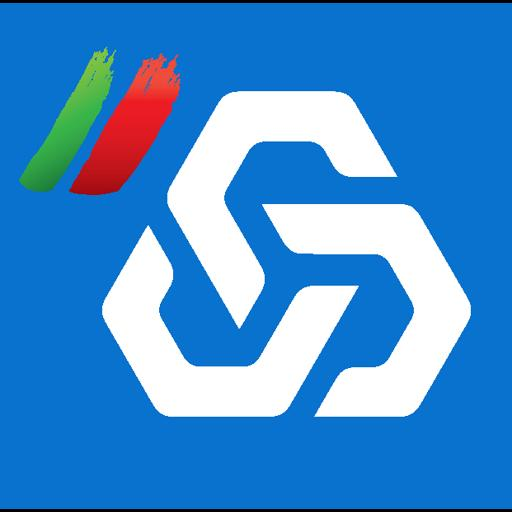Caixa Geral de Depositos: (0, 3, 512, 509)
